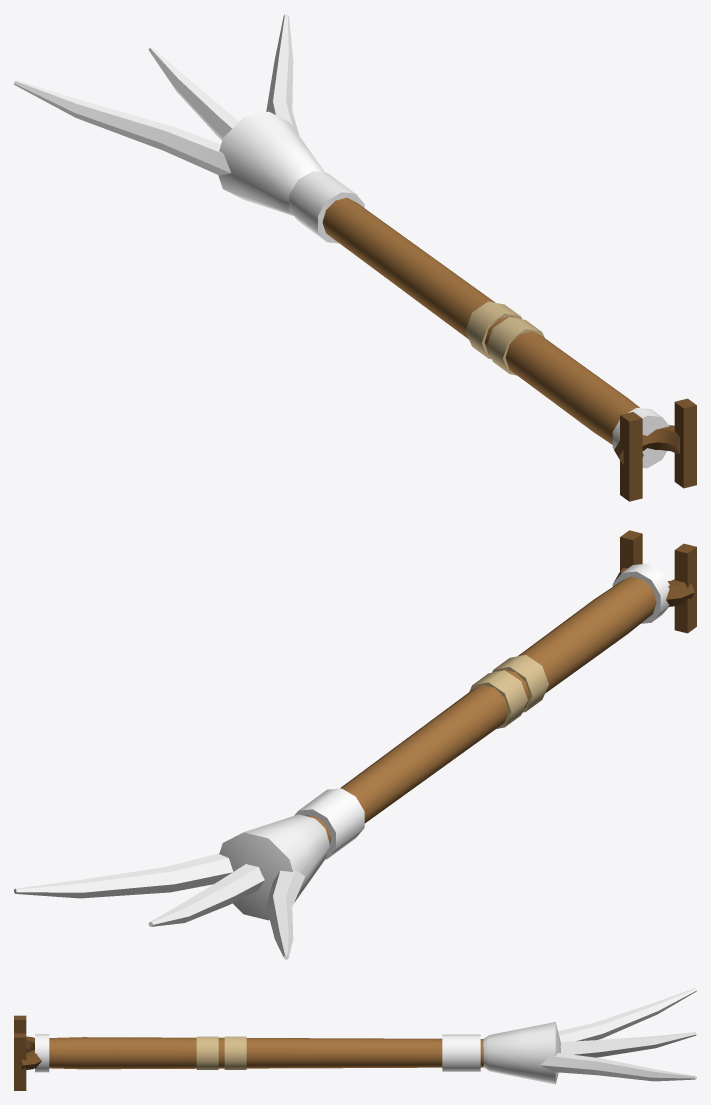
File: pitchfork.glb
3 renders of one model, top to bottom at view 1: azimuth 30°, elevation 25°; view 2: azimuth 150°, elevation 25°; view 3: azimuth 270°, elevation 25°, orthographic. The views are drawn at different scales.
Parts seen in each view (by area): view 1: Pitchfork; view 2: Pitchfork; view 3: Pitchfork.
Part boxes in pixels (bbox=[...]): Pitchfork: bbox=[14, 14, 696, 501]; Pitchfork: bbox=[14, 530, 696, 959]; Pitchfork: bbox=[14, 988, 696, 1090].
Size of the model in its own units: 0.4144 by 0.118 by 1.34.
